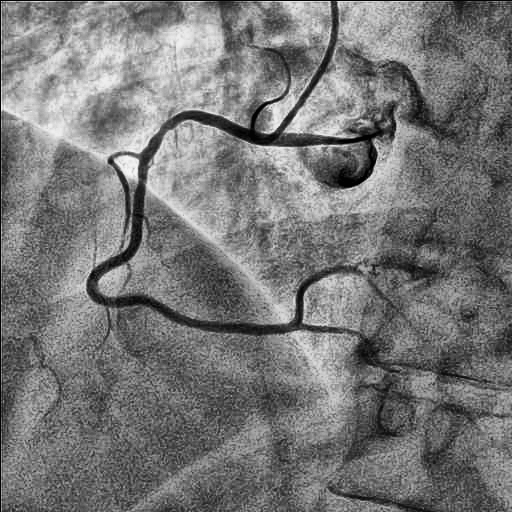pborca: (294, 265, 384, 322)
pda: (299, 323, 376, 352)
rca: (86, 111, 299, 335)
